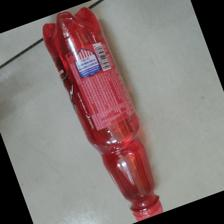Sting: (41, 3, 168, 224)
